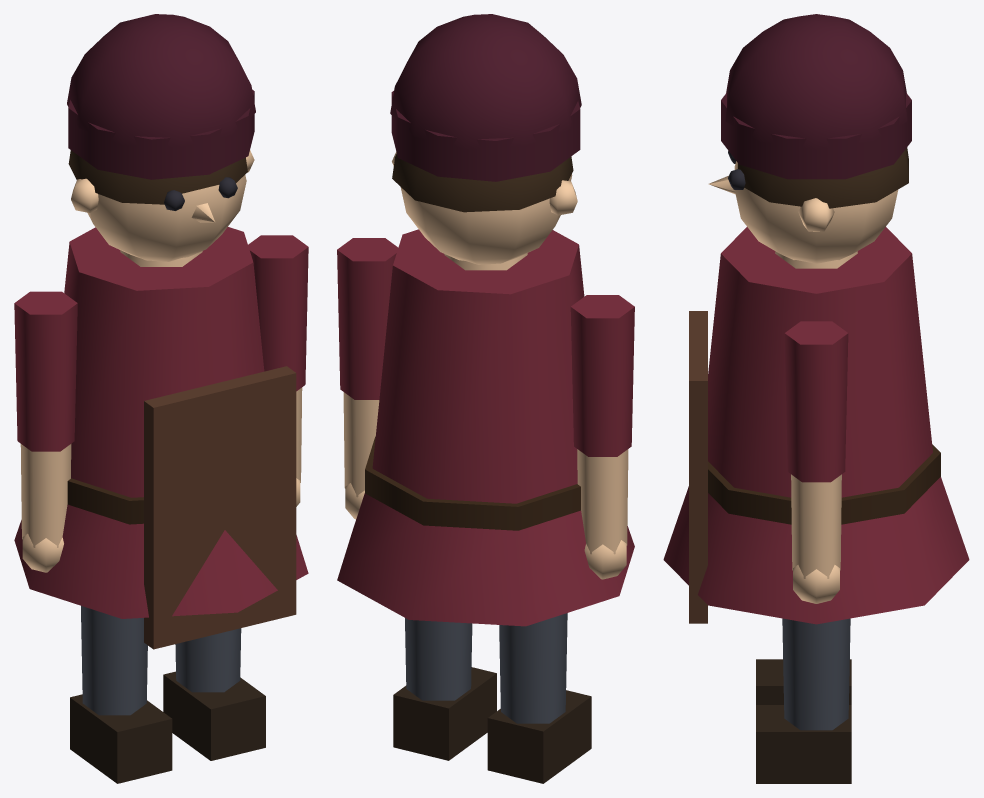
File: w_kelterei.glb
The picture shows the model from 3 angles, left to right: view 1: azimuth 30°, elevation 25°; view 2: azimuth 150°, elevation 25°; view 3: azimuth 270°, elevation 25°; orthographic projection.
Visible parts, largest first — view 1: worker, arm_l, leg_l, leg_r, arm_r; view 2: worker, arm_l, leg_l, leg_r, arm_r; view 3: worker, arm_r, leg_r, leg_l.
Boxes of the visible parts, left/top/right/bottom form: worker: left=14, top=14, right=308, bottom=649; arm_l: left=14, top=291, right=77, bottom=572; leg_l: left=70, top=606, right=172, bottom=783; leg_r: left=163, top=628, right=265, bottom=760; arm_r: left=248, top=235, right=308, bottom=506; worker: left=337, top=14, right=634, bottom=626; arm_l: left=570, top=295, right=634, bottom=579; leg_l: left=487, top=613, right=591, bottom=783; leg_r: left=393, top=618, right=496, bottom=760; arm_r: left=337, top=238, right=398, bottom=519; worker: left=663, top=14, right=969, bottom=624; arm_r: left=784, top=321, right=848, bottom=603; leg_r: left=756, top=618, right=851, bottom=783; leg_l: left=756, top=659, right=851, bottom=704.
Bounding box in the file's own units: 0.4053 × 1 × 0.384.
